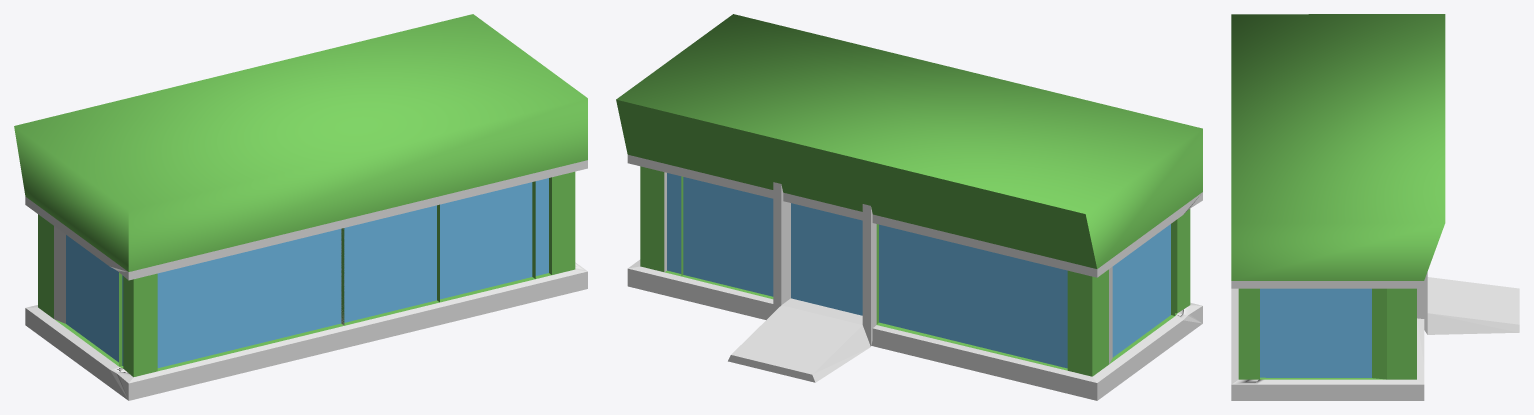
File: Shop5x2x2Green.fbx
The picture shows the model from 3 angles, left to right: view 1: azimuth 30°, elevation 25°; view 2: azimuth 150°, elevation 25°; view 3: azimuth 270°, elevation 25°; orthographic projection. The views are drawn at different scales.
Parts seen in each view (by area): view 1: Shop.002; view 2: Shop.002; view 3: Shop.002.
Part boxes in pixels (bbox=[...]): Shop.002: bbox=[14, 14, 587, 400]; Shop.002: bbox=[616, 14, 1202, 400]; Shop.002: bbox=[1231, 14, 1519, 400].
Bounding box in the file's own units: 4.99 × 1.98 × 2.91.
Materials: 1 (1 with a texture image).
